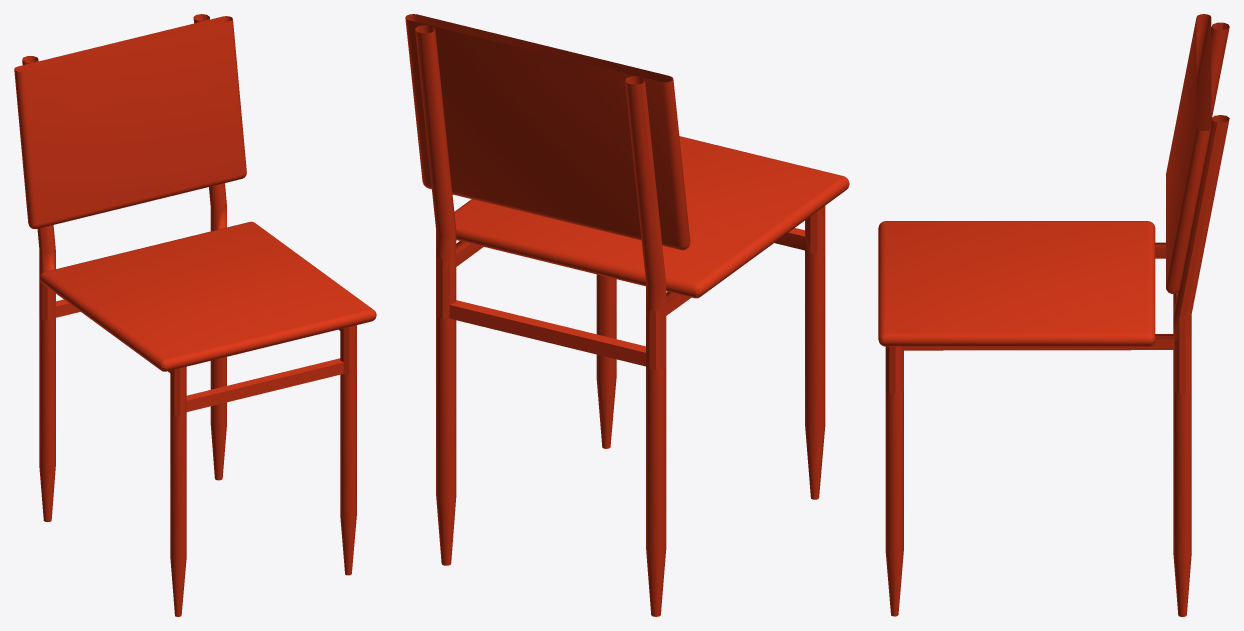
The model's file is Chair.glb.
The picture shows the model from 3 angles, left to right: view 1: azimuth 30°, elevation 25°; view 2: azimuth 150°, elevation 25°; view 3: azimuth 270°, elevation 25°; orthographic projection. The views are drawn at different scales.
Visible parts, largest first — view 1: ChairOb; view 2: ChairOb; view 3: ChairOb.
Boxes of the visible parts, x1,y1,x2,y2 form: ChairOb: (14,14,376,616); ChairOb: (405,14,849,616); ChairOb: (878,14,1229,616).
Size of the model in its own units: 0.0934 by 0.1846 by 0.1185.
